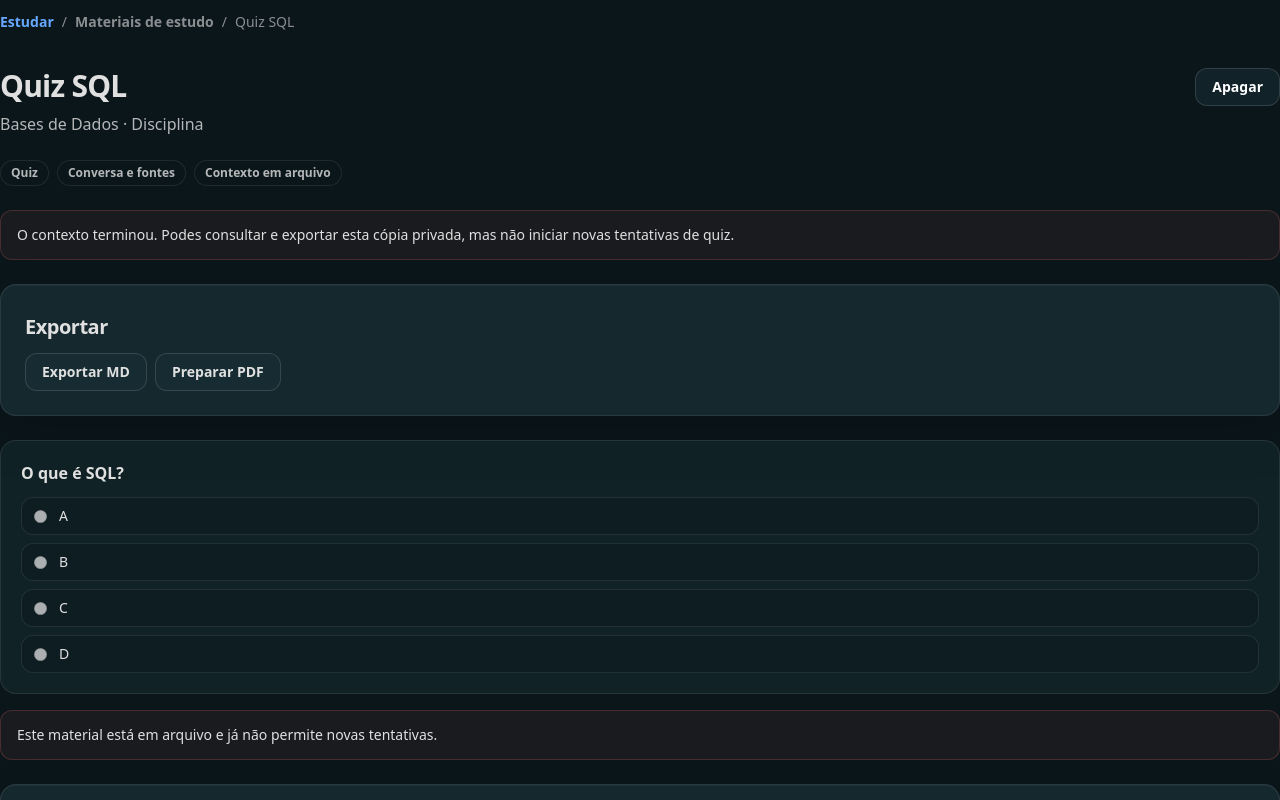
StudentStudyMaterialsPage › mantém um quiz arquivado legível sem permitir nova tentativa
This screenshot has width=1280, height=800.
Expected: the heading "Quiz SQL" is shown, top-left (0, 65), bottom-right (126, 106)
Expected: the text "Este material está em arquivo e já não permite novas tentativas." is shown, top-left (0, 710), bottom-right (1279, 760)
Click the button "Apagar" at (1238, 87), box top-left (1195, 68), bottom-right (1279, 106)
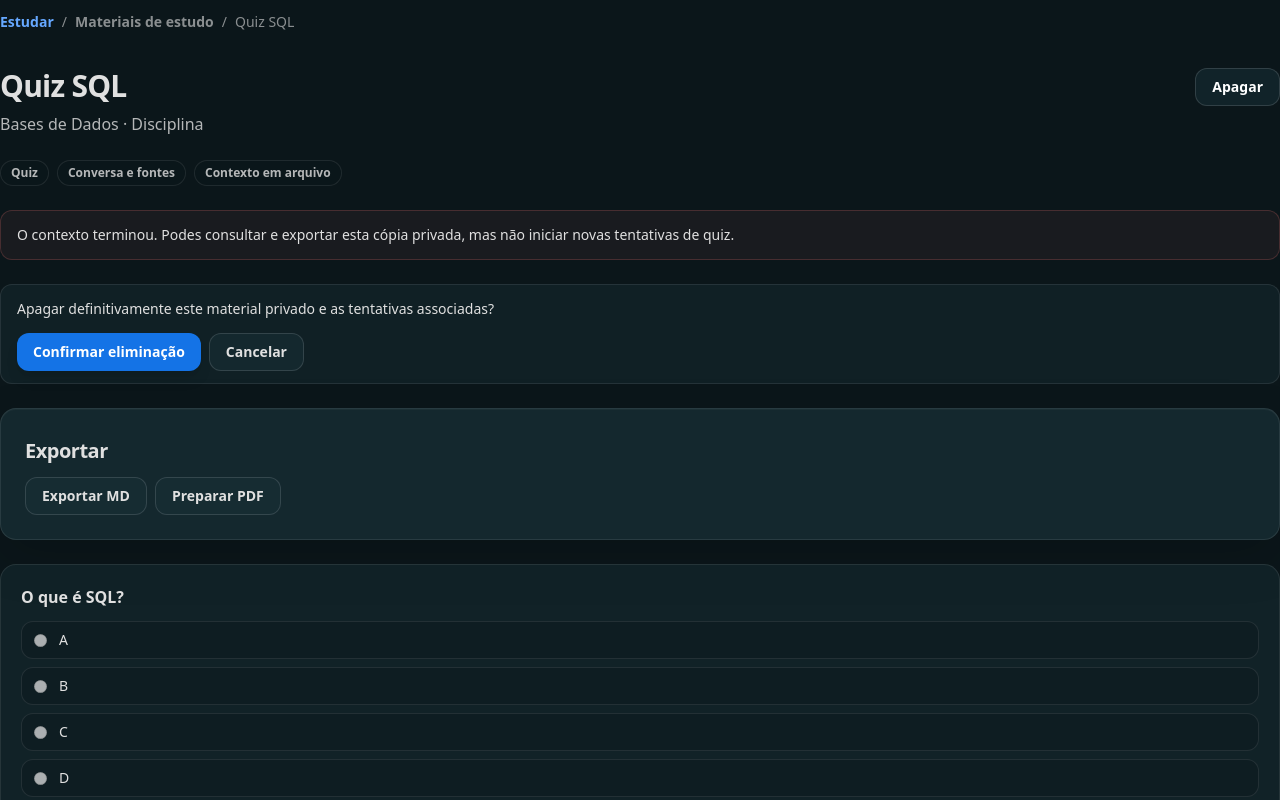
Result: the text "Apagar definitivamente este material privado" is shown at top-left (17, 299), bottom-right (494, 318)
